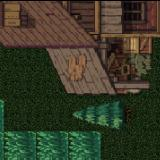Obstacle: (3, 0, 160, 99), (100, 97, 136, 130)
Slow: (0, 131, 100, 160)
